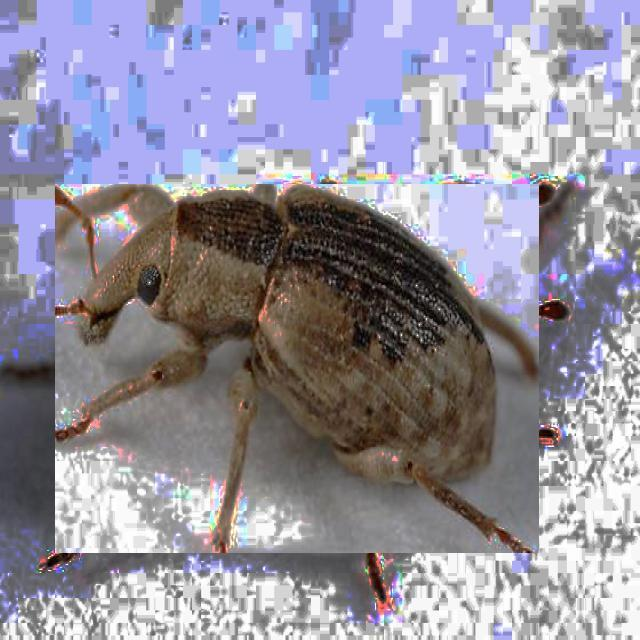rice-bug: (55, 184, 539, 553)
